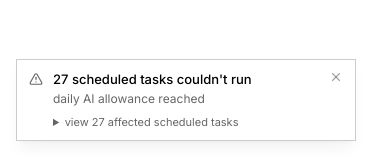
Test: AdvisoryOverlay › keeps affected items behind a user-controlled disclosure
The width and height of the screenshot is (372, 157).
Check: the number of messages is 1, box [16,58,356,141]
Step 1. Click the heading "view 27 affected scheduled tasks" → [152, 122], box [65,114,238,128]
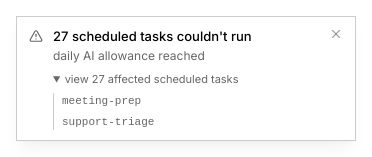
Check: the list item "meeting-prep" is shown, box [62,95,141,107]
Check: the list item "support-triage" is shown, box [62,116,154,128]
